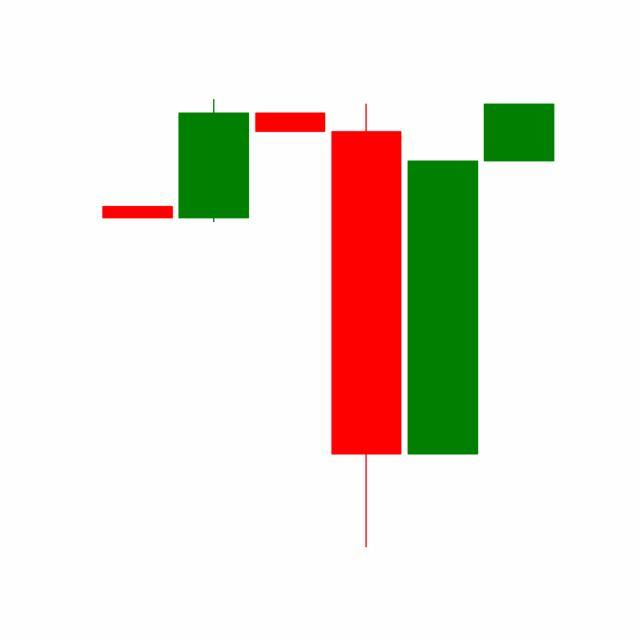Marubozu: (404, 158, 482, 459)
